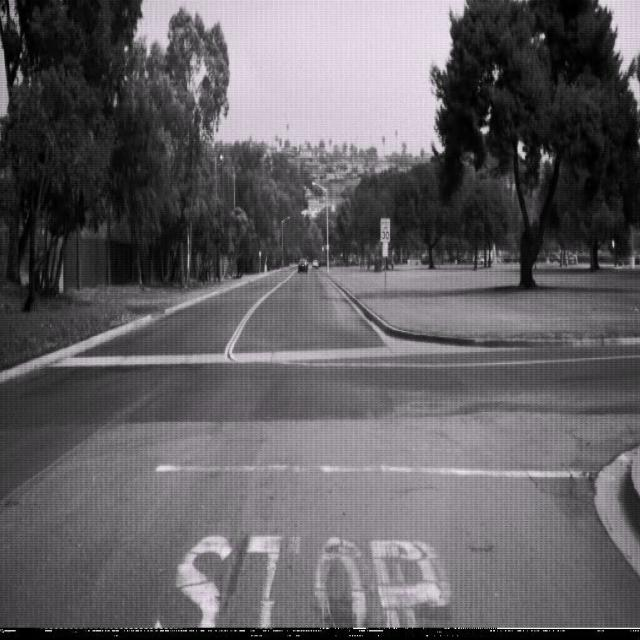speedLimit30: (379, 217, 390, 243)
